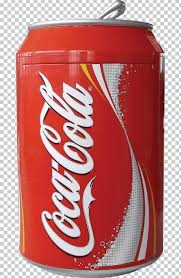can: (12, 13, 166, 278)
